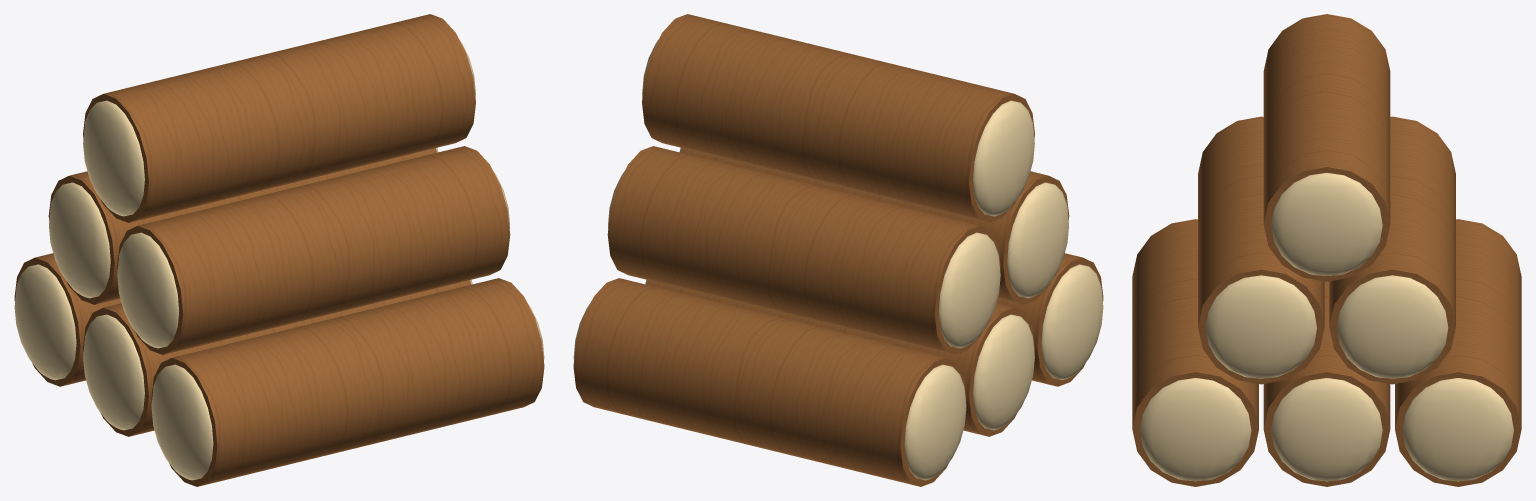
File: wood-pile.glb
3 views of the same model, side by side, from view 1: azimuth 30°, elevation 25°; view 2: azimuth 150°, elevation 25°; view 3: azimuth 270°, elevation 25° (orthographic). The views are drawn at different scales.
Size of the model in its own units: 1.75 by 1.56 by 1.72.
Materials: 2 (1 with a texture image).
